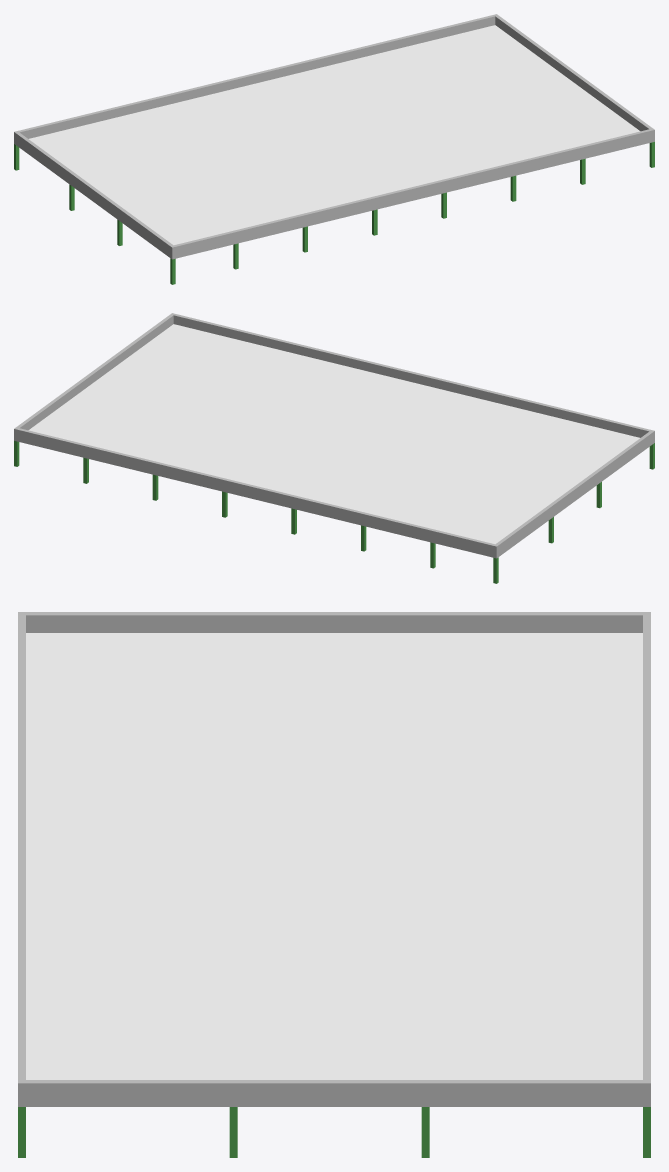
Rendered from carparkA.glb.
The picture shows the model from 3 angles, top to bottom: view 1: azimuth 30°, elevation 25°; view 2: azimuth 150°, elevation 25°; view 3: azimuth 270°, elevation 25°; orthographic projection. The views are drawn at different scales.
Visible parts, largest first — view 1: carparkA; view 2: carparkA; view 3: carparkA.
Boxes of the visible parts, x1=… form: carparkA: x1=14, y1=14, x2=654, y2=284; carparkA: x1=14, y1=313, x2=654, y2=583; carparkA: x1=18, y1=612, x2=650, y2=1157.
Size of the model in its own units: 69.6 by 5.14 by 39.5.
